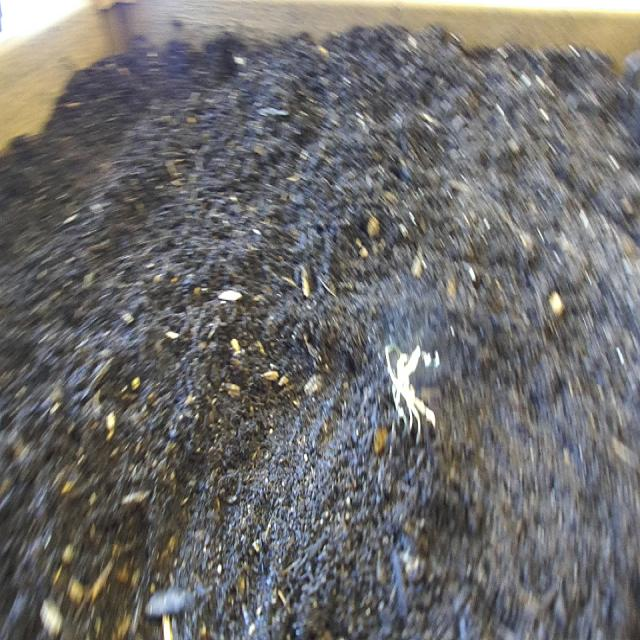Unhealthy: (383, 335, 440, 454)
